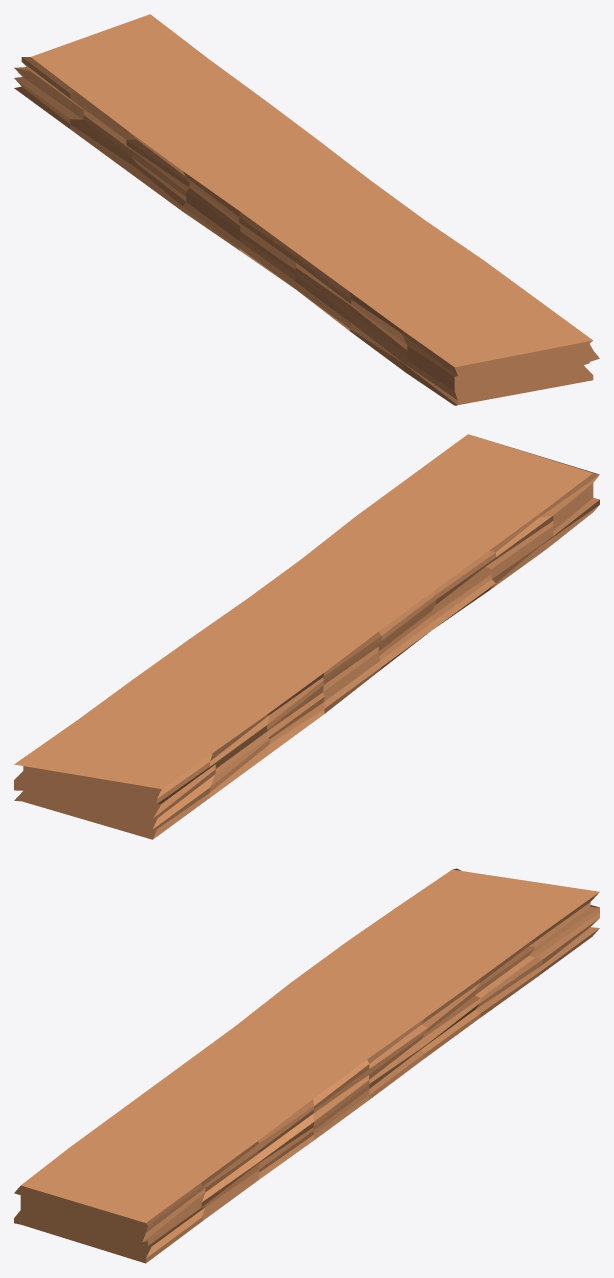
The picture shows the model from 3 angles, top to bottom: view 1: azimuth 30°, elevation 25°; view 2: azimuth 150°, elevation 25°; view 3: azimuth 330°, elevation 25°; orthographic projection.
Visible parts, largest first — view 1: 立方体.001; view 2: 立方体.001; view 3: 立方体.001.
Part boxes in pixels (x1,y1,x2,y2): 立方体.001: (14,14,599,405); 立方体.001: (14,434,599,839); 立方体.001: (14,868,599,1263).
Size of the model in its own units: 36.2 by 10.34 by 207.
